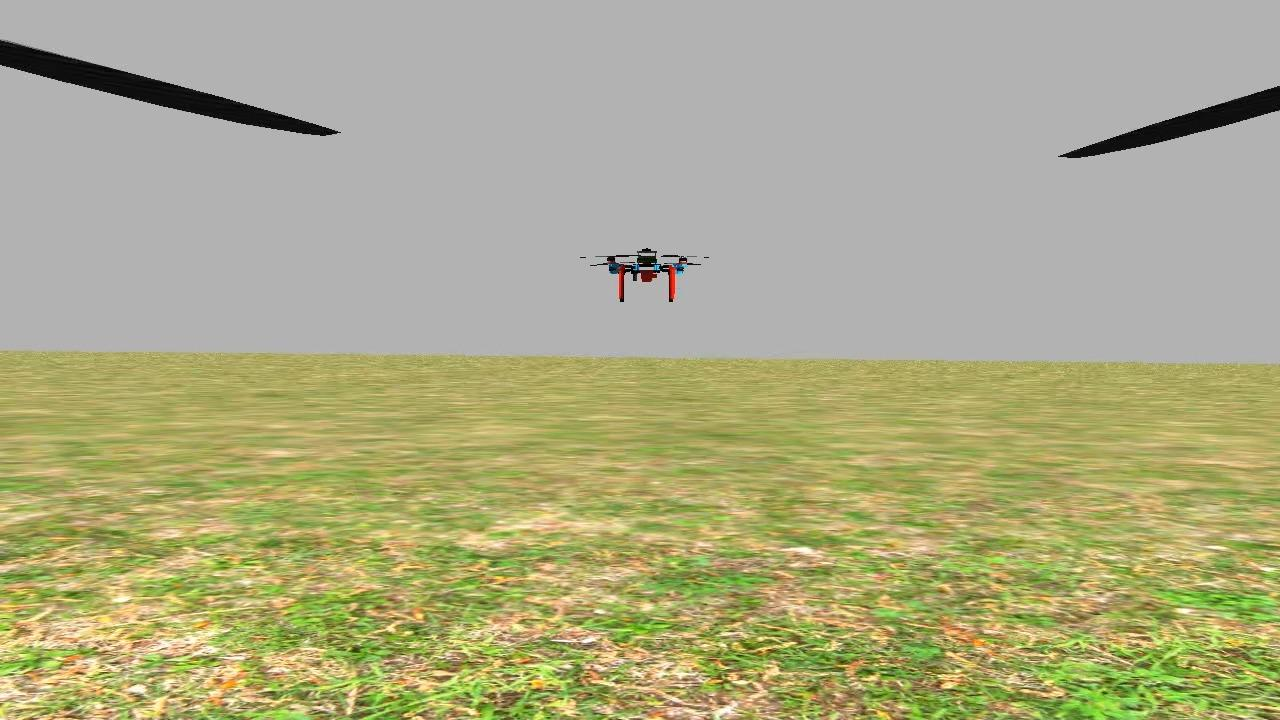UAV: (601, 239, 694, 308)
